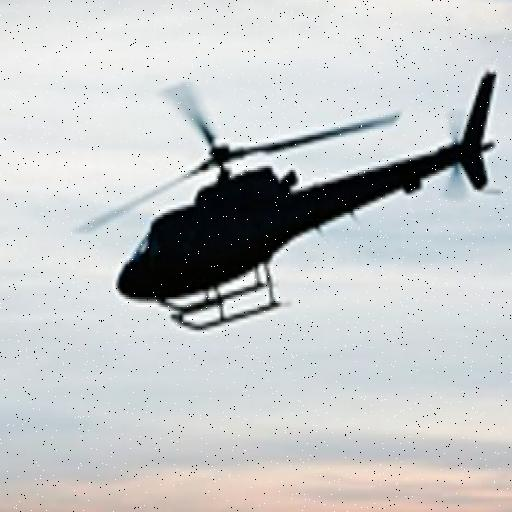helicopter: (89, 66, 495, 332)
